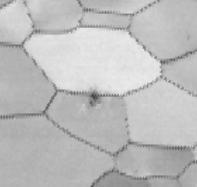good_void: (88, 91, 100, 108)
